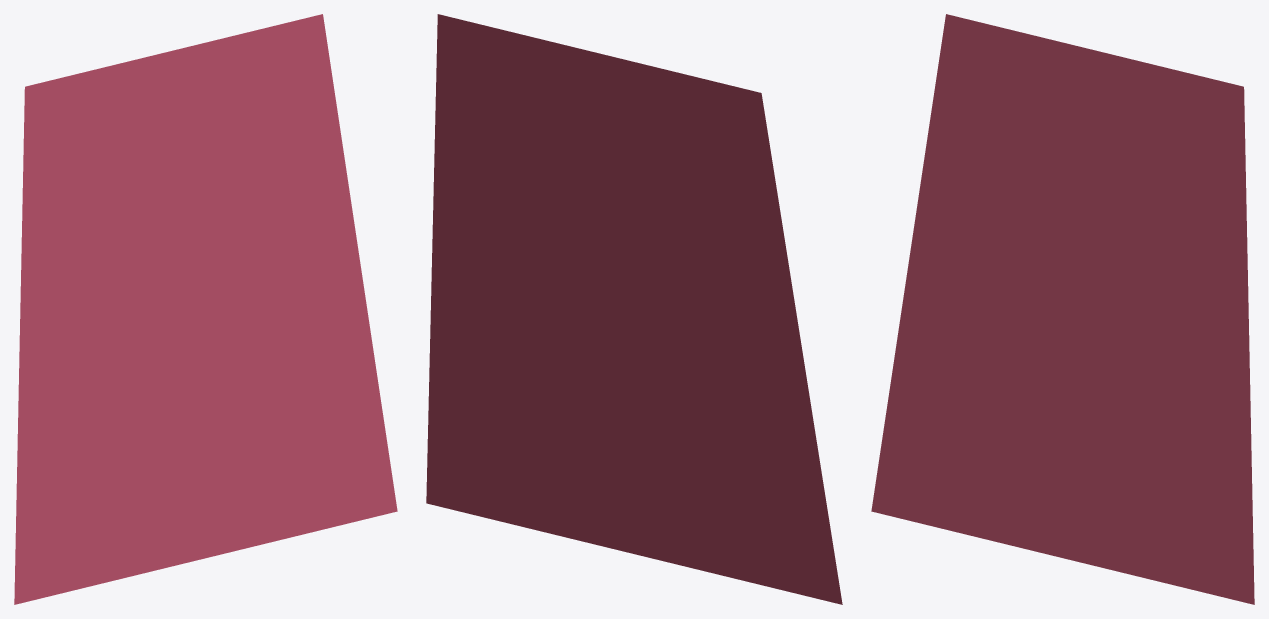
File: cape.glb
The picture shows the model from 3 angles, left to right: view 1: azimuth 30°, elevation 25°; view 2: azimuth 150°, elevation 25°; view 3: azimuth 330°, elevation 25°; orthographic projection. The views are drawn at different scales.
Parts seen in each view (by area): view 1: Plane; view 2: Plane; view 3: Plane.
Part boxes in pixels (x1,y1,x2,y2): Plane: [14, 14, 397, 604]; Plane: [426, 14, 842, 604]; Plane: [871, 14, 1254, 604].
Bounding box in the file's own units: 0.414 × 0.5 × 0.06.
